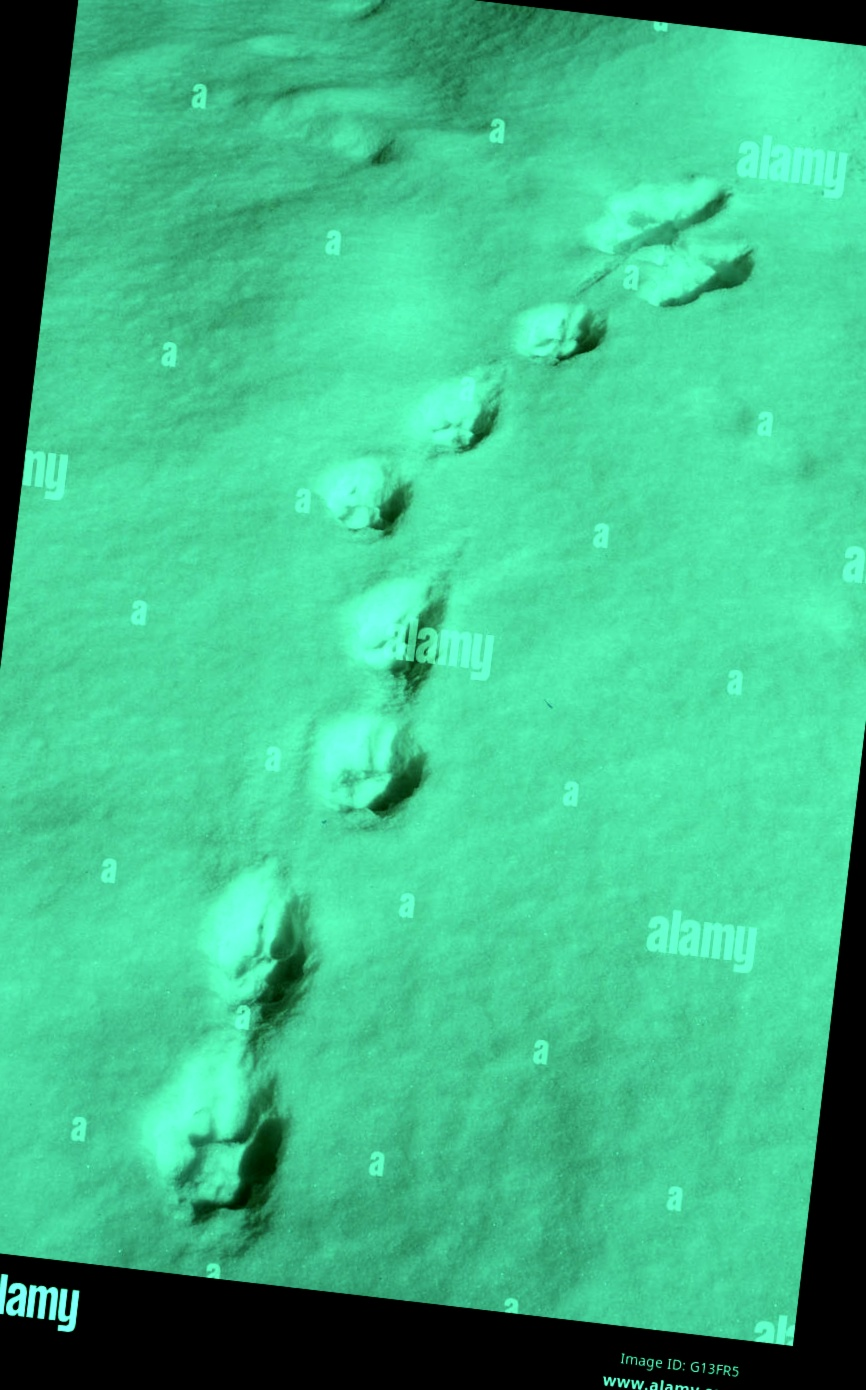loup: (161, 856, 384, 1256)
